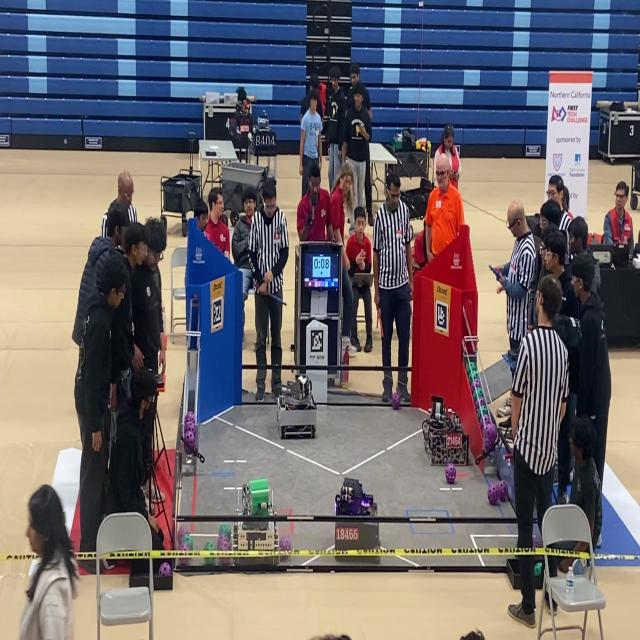artifact_green: (219, 523, 231, 538), (182, 534, 193, 550), (472, 388, 484, 401), (534, 562, 542, 577), (204, 542, 216, 551), (470, 361, 477, 372)
artifact_purple: (484, 421, 497, 452), (488, 484, 499, 506), (445, 463, 456, 484), (184, 431, 195, 452), (498, 480, 508, 501), (218, 536, 231, 551), (159, 562, 172, 577), (181, 534, 193, 550), (217, 534, 229, 550), (177, 526, 188, 543), (279, 537, 292, 551), (391, 392, 401, 410), (219, 523, 231, 538), (481, 414, 492, 430), (218, 538, 230, 551), (533, 531, 542, 548), (184, 413, 195, 423), (179, 543, 192, 551), (479, 403, 488, 414), (184, 423, 195, 432), (186, 411, 195, 422), (184, 415, 195, 424), (184, 421, 195, 430), (478, 397, 487, 407), (473, 379, 481, 389), (474, 400, 480, 411)
